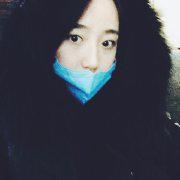WRONG: (55, 20, 121, 105)
